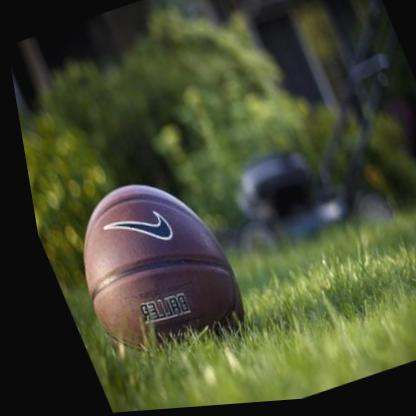basketball: (39, 160, 256, 385)
